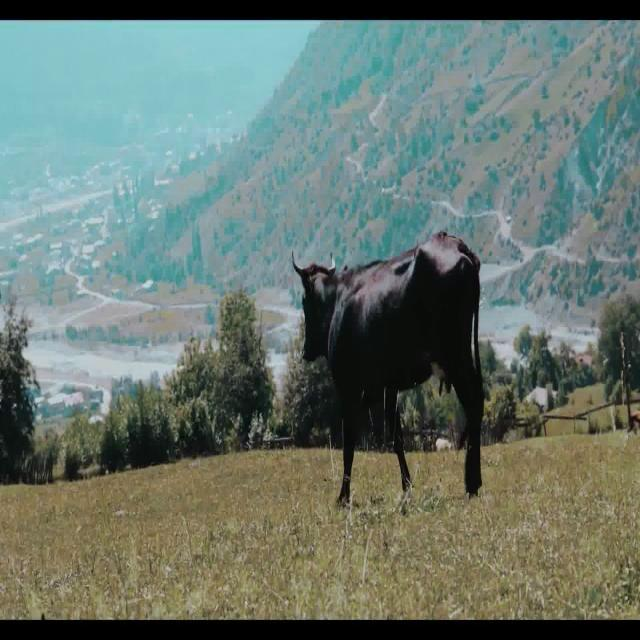cow: (292, 232, 484, 505)
